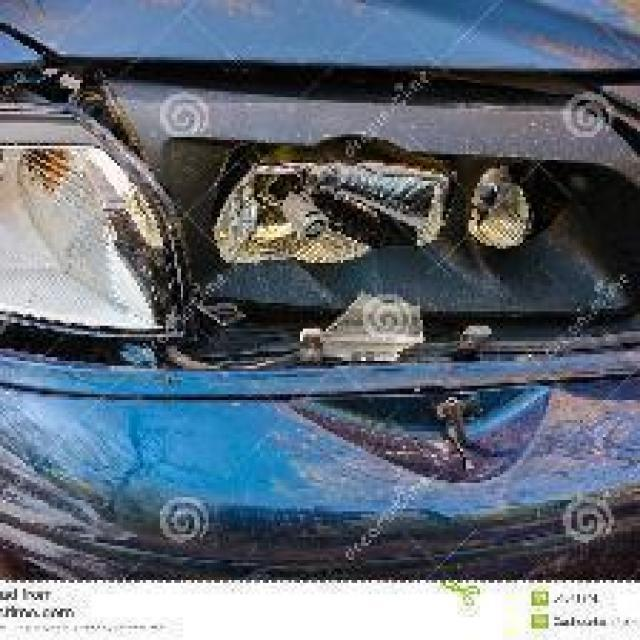damaged: (0, 62, 637, 348)
